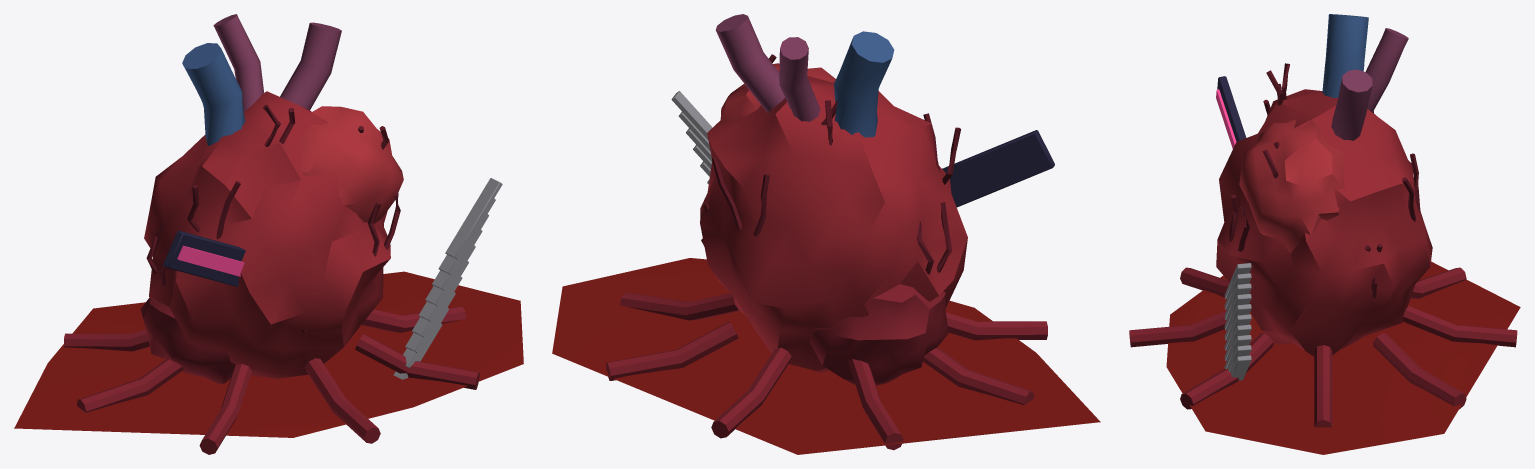
The model's file is mall_heart.glb.
3 renders of one model, left to right at view 1: azimuth 30°, elevation 25°; view 2: azimuth 150°, elevation 25°; view 3: azimuth 270°, elevation 25°, orthographic. The views are drawn at different scales.
Visible parts, largest first — view 1: mall_heart; view 2: mall_heart; view 3: mall_heart.
Boxes of the visible parts, x1,y1,x2,y2 form: mall_heart: [14, 14, 523, 454]; mall_heart: [552, 14, 1100, 454]; mall_heart: [1129, 14, 1520, 454].
Size of the model in its own units: 19.72 by 12.64 by 13.78.
